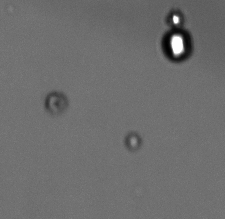Dead Cell: (45, 93, 68, 114)
Living Cell: (160, 28, 192, 62), (167, 10, 185, 29), (125, 133, 142, 151)
